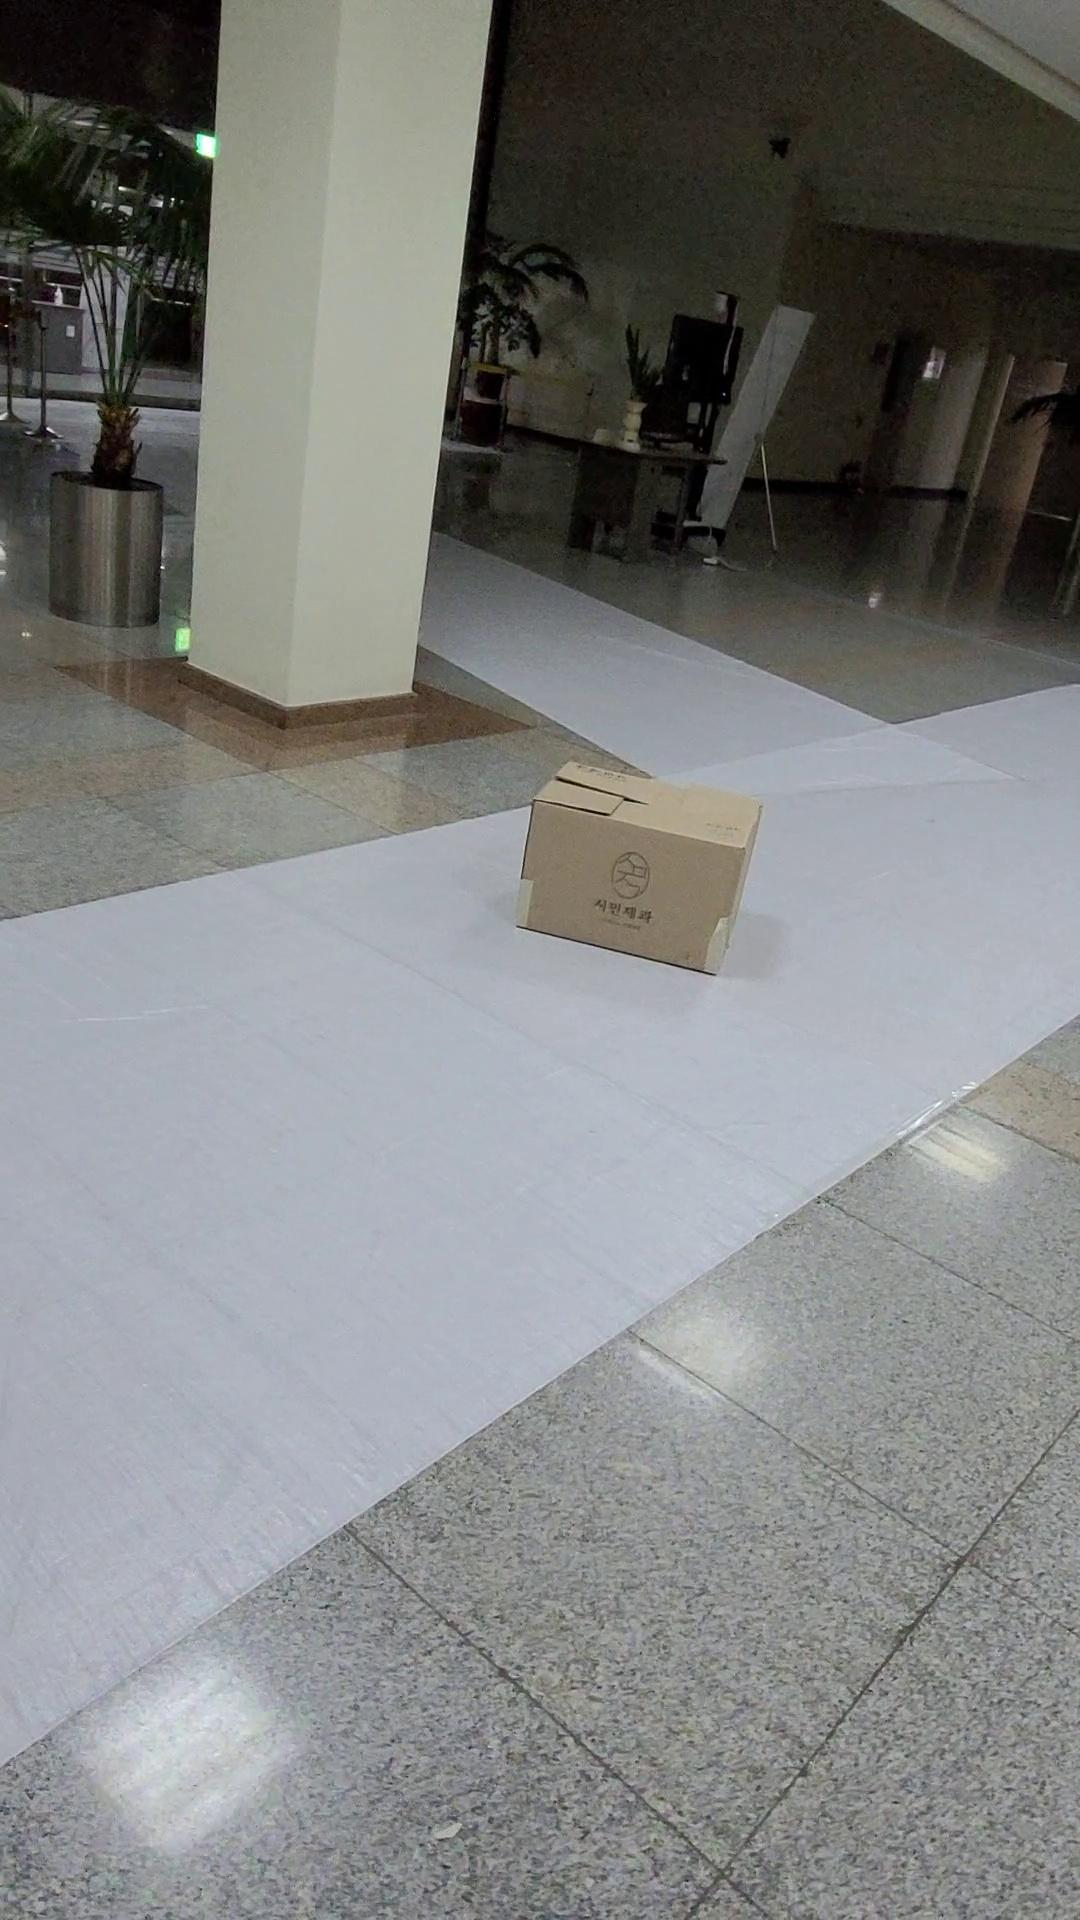Box: (456, 715, 804, 1022)
